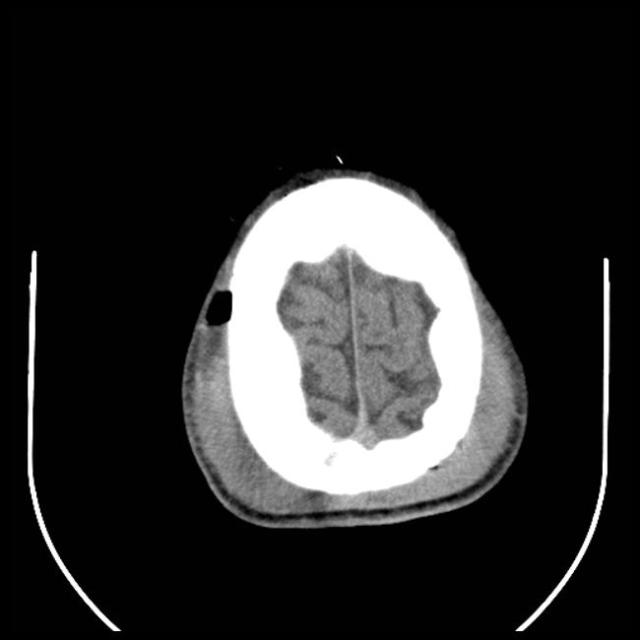lesion: (175, 160, 534, 532)
